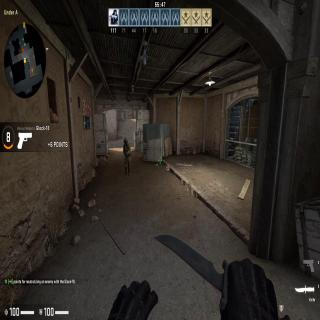CT-Body: (122, 136, 131, 170)
CT-Head: (124, 138, 128, 144)
